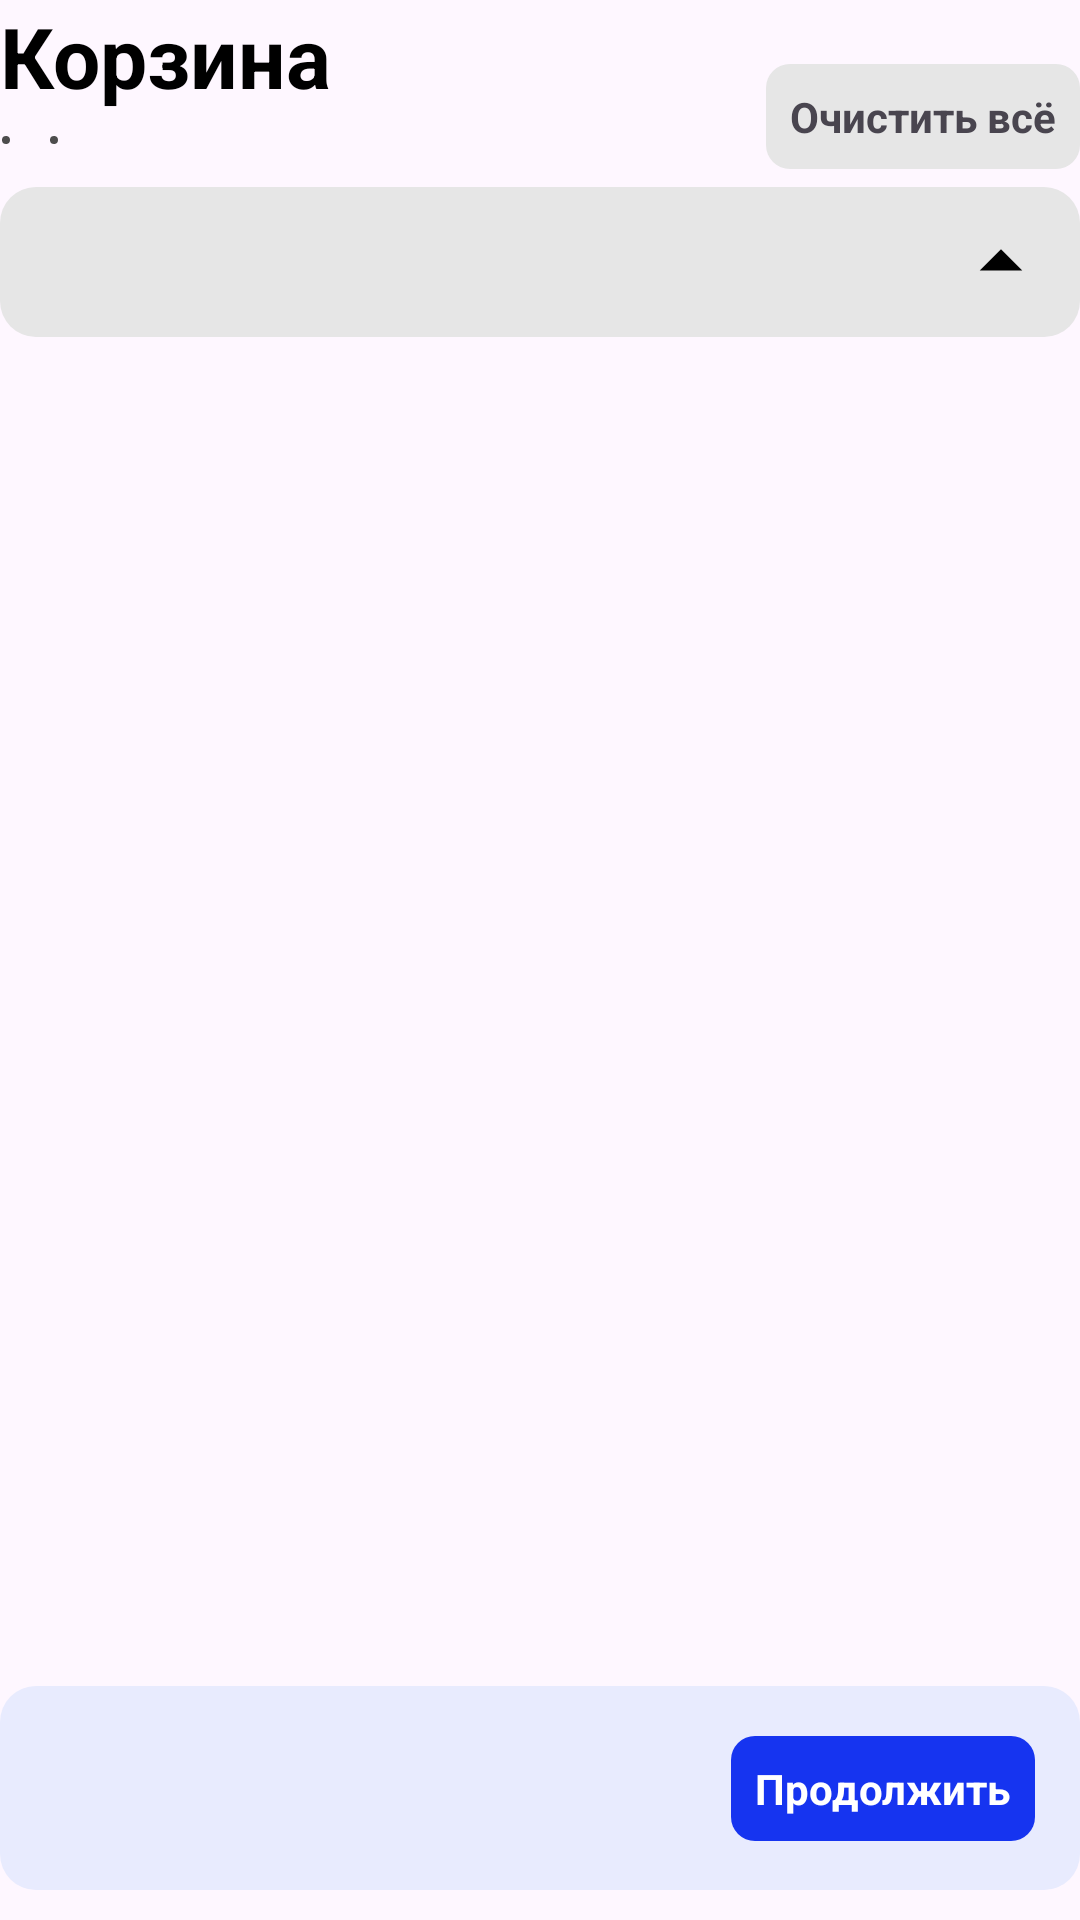

Where to tap for icons on this 1080px×1920px app screen, as (x=x, y=y):
arrow drop up: (x=1001, y=260)
